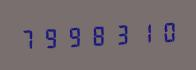eight: (86, 20, 108, 49)
nine: (63, 21, 85, 50), (40, 23, 62, 51)
one: (132, 18, 154, 47)
seven: (17, 24, 39, 53)
three: (109, 19, 131, 48)
zero: (155, 16, 177, 45)
